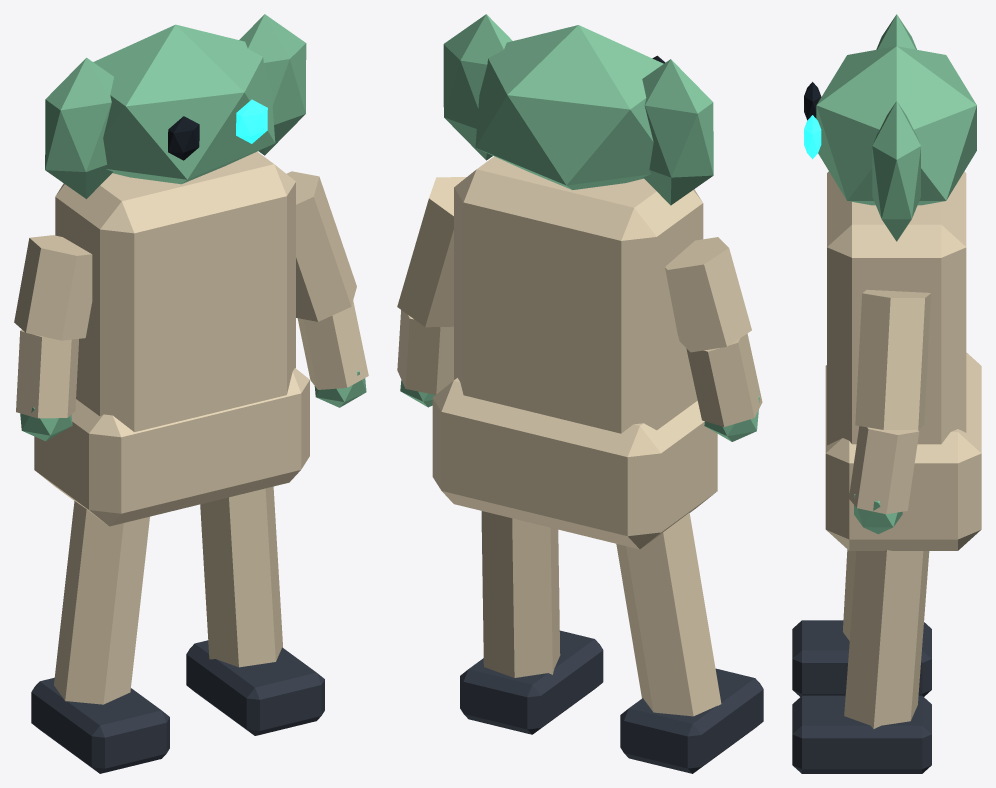
Rendered from npcs_004_seed100.glb.
The picture shows the model from 3 angles, left to right: view 1: azimuth 30°, elevation 25°; view 2: azimuth 150°, elevation 25°; view 3: azimuth 270°, elevation 25°; orthographic projection. The views are drawn at different scales.
Visible parts, largest first — view 1: npcs_004_seed100; view 2: npcs_004_seed100; view 3: npcs_004_seed100.
Part boxes in pixels (box(x1,y1,x2,y2)): npcs_004_seed100: box(14, 14, 368, 773); npcs_004_seed100: box(397, 14, 763, 773); npcs_004_seed100: box(792, 14, 981, 773).
Size of the model in its own units: 0.8617 by 1.63 by 0.4103.
